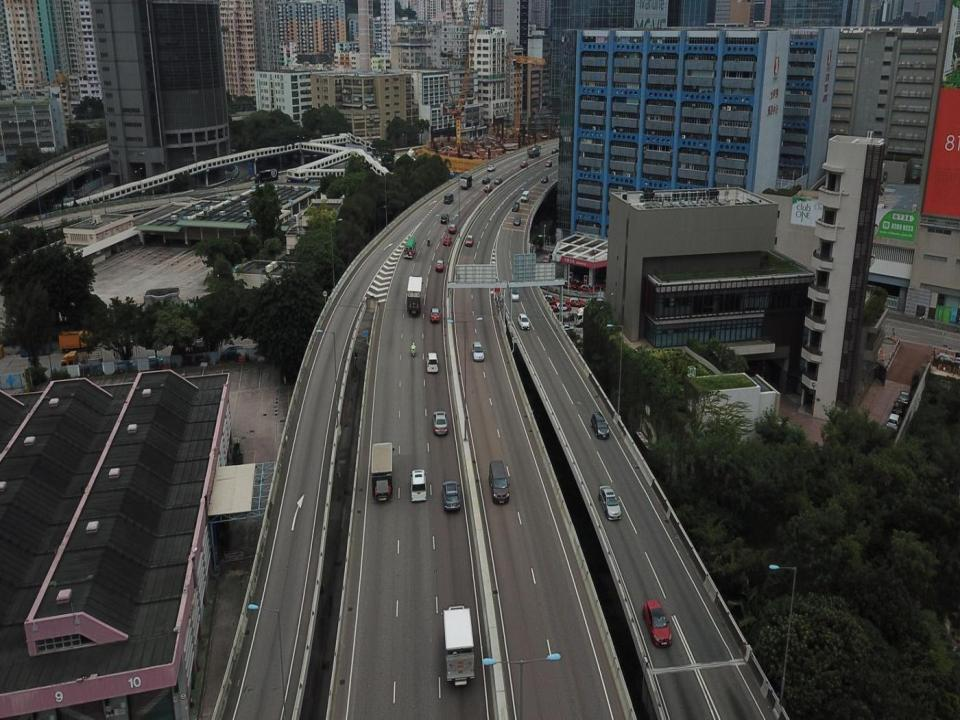bus: (402, 238, 417, 258)
car: (643, 598, 672, 648), (598, 483, 622, 523), (408, 468, 429, 502), (441, 478, 461, 512), (590, 410, 610, 440), (432, 410, 448, 436), (470, 340, 486, 364), (884, 411, 900, 433), (425, 352, 440, 373), (890, 398, 906, 417), (517, 312, 531, 332), (565, 295, 585, 309), (896, 389, 910, 408), (428, 305, 442, 323), (551, 300, 572, 312), (509, 284, 520, 304), (578, 282, 592, 294), (464, 234, 474, 248), (435, 259, 445, 272), (512, 201, 521, 213), (487, 164, 496, 174), (494, 176, 502, 187), (443, 236, 451, 246), (513, 215, 520, 226), (520, 161, 529, 169), (550, 147, 559, 155), (449, 223, 456, 233), (540, 174, 548, 182), (484, 184, 492, 192), (545, 160, 552, 167)
truck: (442, 605, 476, 687), (370, 442, 396, 504), (59, 348, 103, 373), (406, 275, 424, 316), (58, 331, 91, 351), (574, 311, 607, 328), (459, 174, 473, 190), (527, 144, 541, 158)
van: (488, 460, 512, 505), (444, 192, 454, 205), (521, 190, 530, 202), (440, 212, 448, 224)
